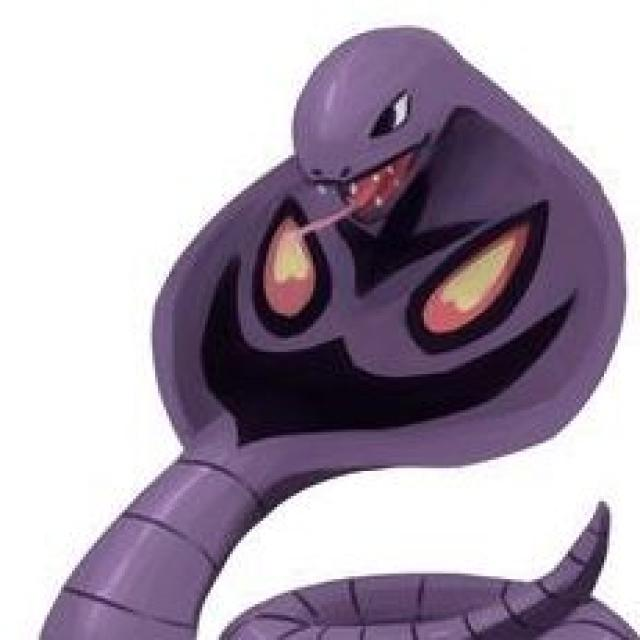Arbok: (145, 21, 627, 476)
